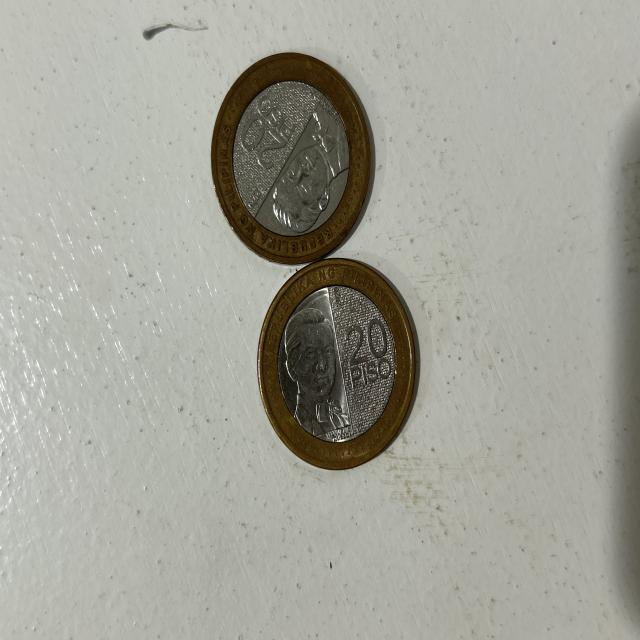20_New_Front: (240, 114, 283, 172), (344, 316, 392, 360)
